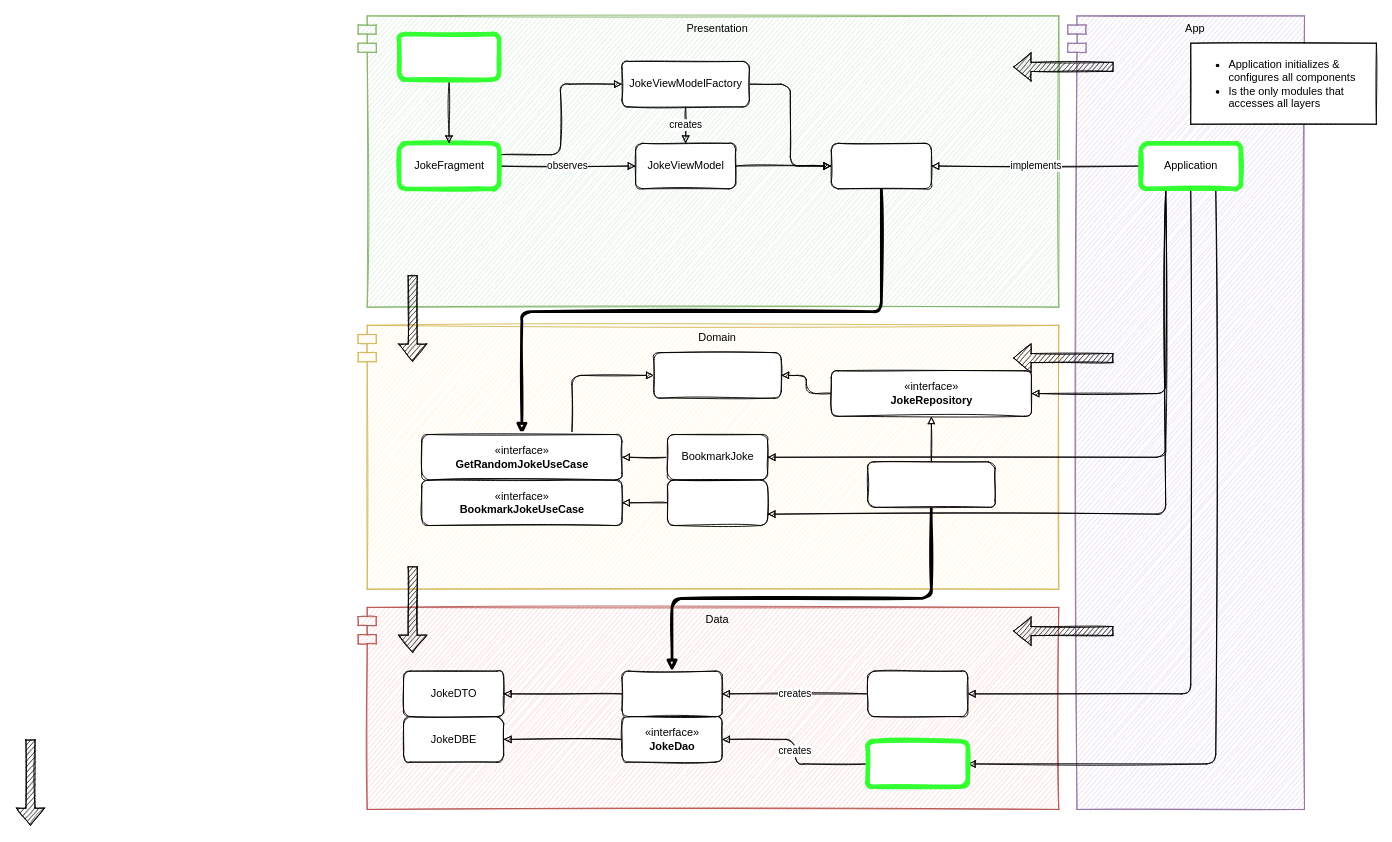
Some shapes in this 1392 by 842 pixel diagram are drawn without their labels. Each missing label, with the centre of its shape:
"GetRandomJoke" belongs at [717,502].
"Joke" belongs at [717,375].
"JokeDatabase" belongs at [917,763].
"JokeRepositoryImpl" belongs at [931,484].
"MainActivity" belongs at [448,56].
"RetrofitModule" belongs at [917,693].
"«interface» ChuckNorrisApi" belongs at [671,693].
"«interface» JokeAppContract" belongs at [880,165].
